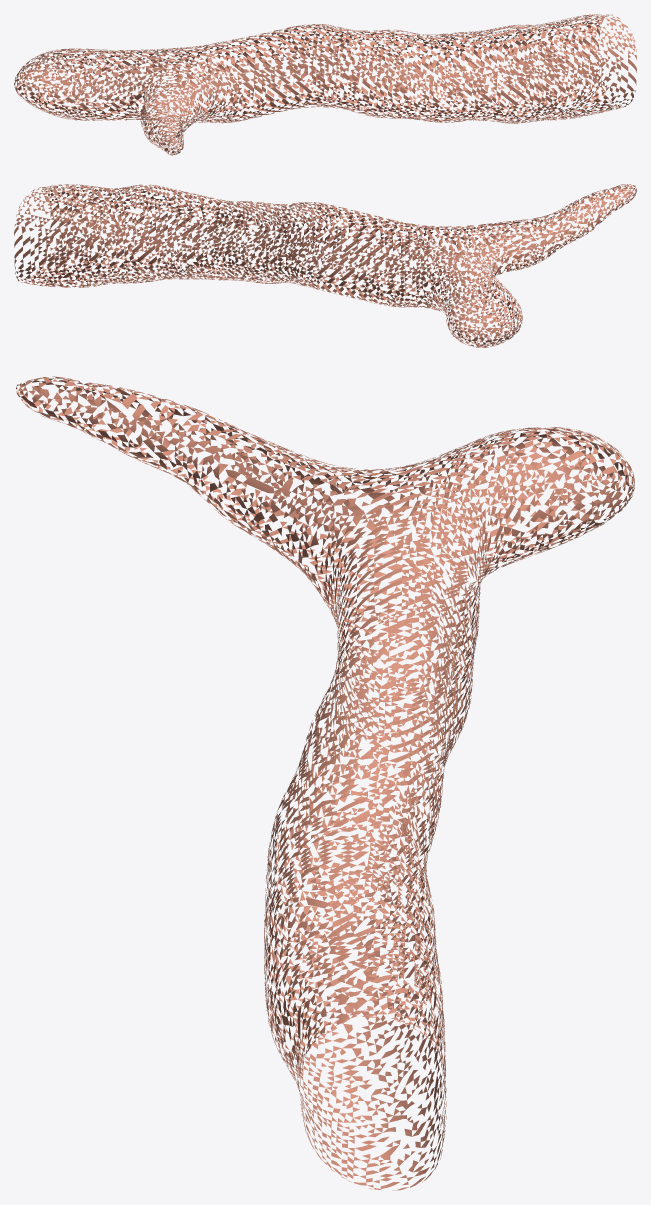
Rendered from morph_003.glb.
3 views of the same model, one above another, from view 1: azimuth 30°, elevation 25°; view 2: azimuth 150°, elevation 25°; view 3: azimuth 270°, elevation 25° (orthographic). The views are drawn at different scales.
Size of the model in its own units: 100 by 28.31 by 50.38.
